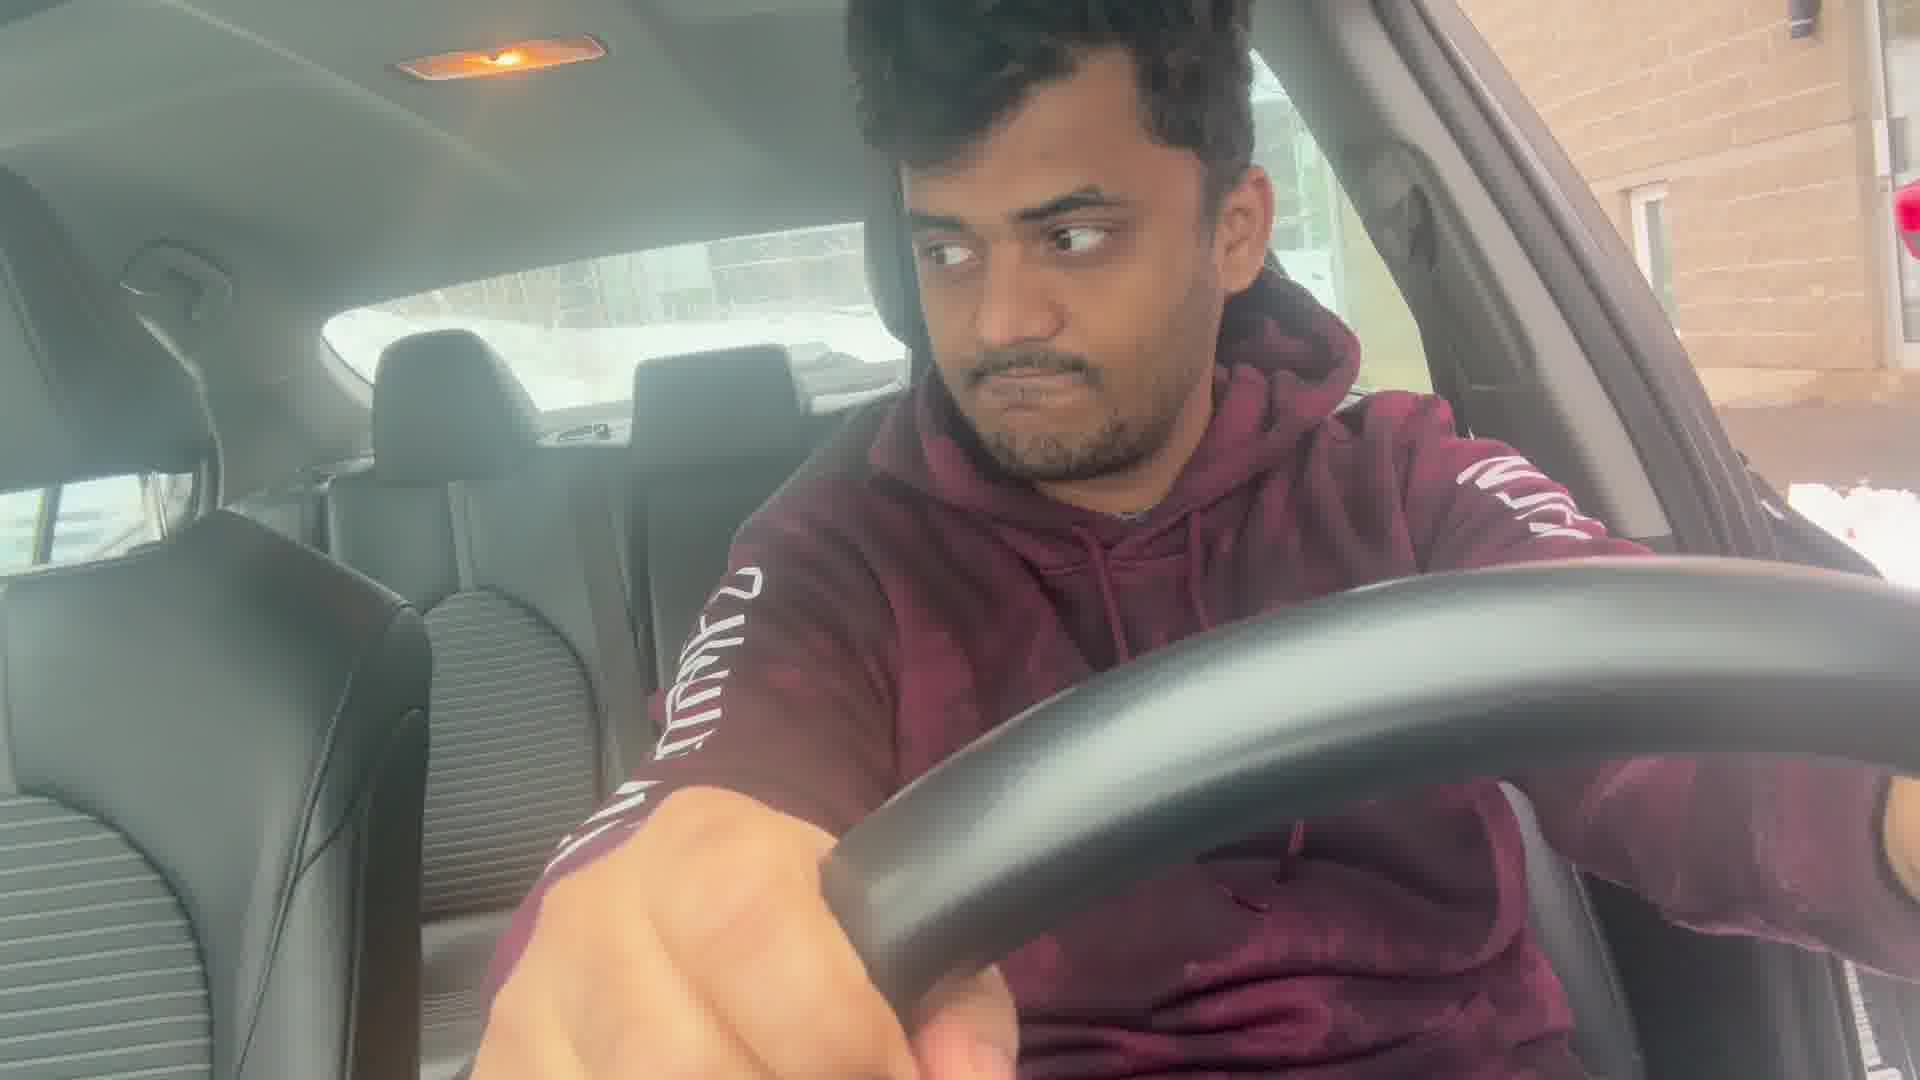inattentive: (90, 36, 1340, 811)
no_seatbelt: (865, 161, 1511, 1065)
